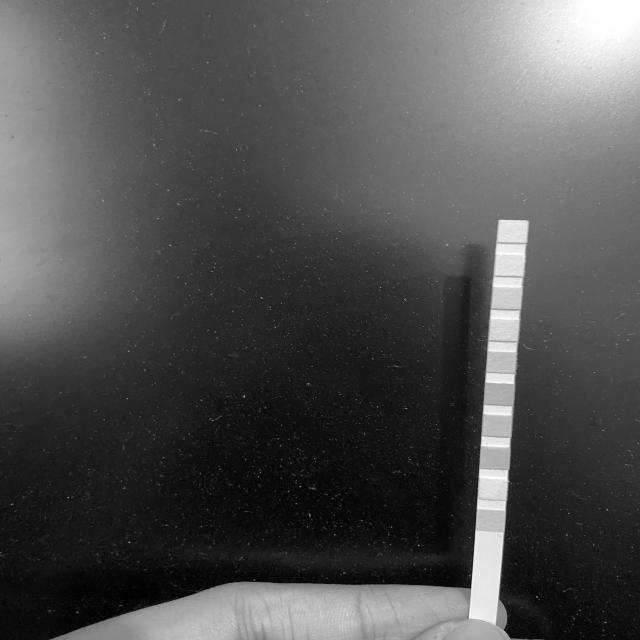Bilirubin: (479, 479, 507, 499)
Blood: (485, 384, 514, 404)
Glucose: (476, 510, 504, 530)
Ketone: (480, 447, 510, 468)
Leukocytes: (498, 220, 526, 242)
Nitrite: (495, 254, 523, 276)
Protein: (489, 320, 518, 340)
SpGravity: (482, 415, 512, 436)
Urobilinogen: (492, 288, 521, 308)
background: (0, 0, 640, 640)
pH: (487, 352, 516, 373)
strip: (469, 220, 530, 600)
